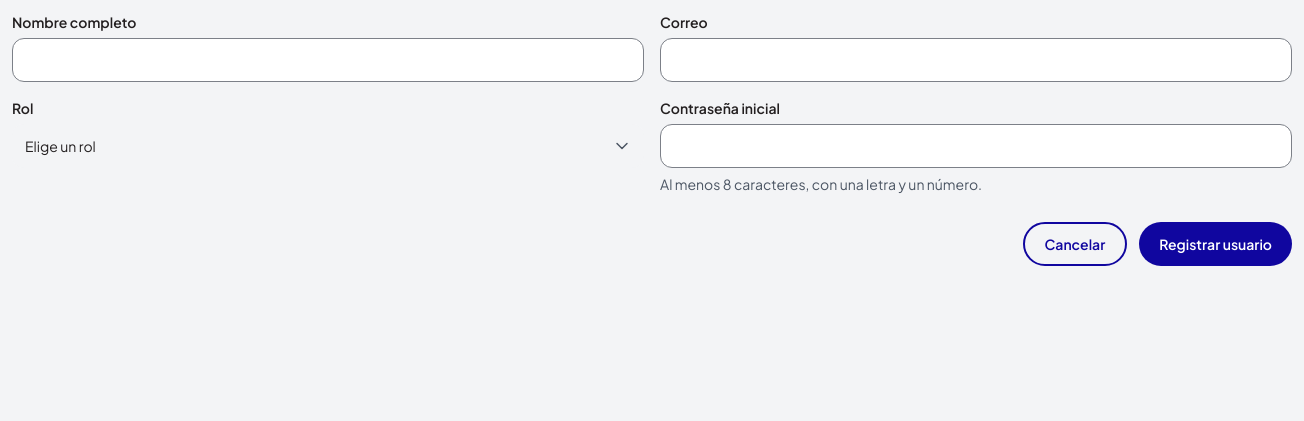
FormularioUsuario › un operador sin estación no se envía
In the field labelled "Nombre completo": (328, 60) [12,38,644,82], type "Luis Pérez"
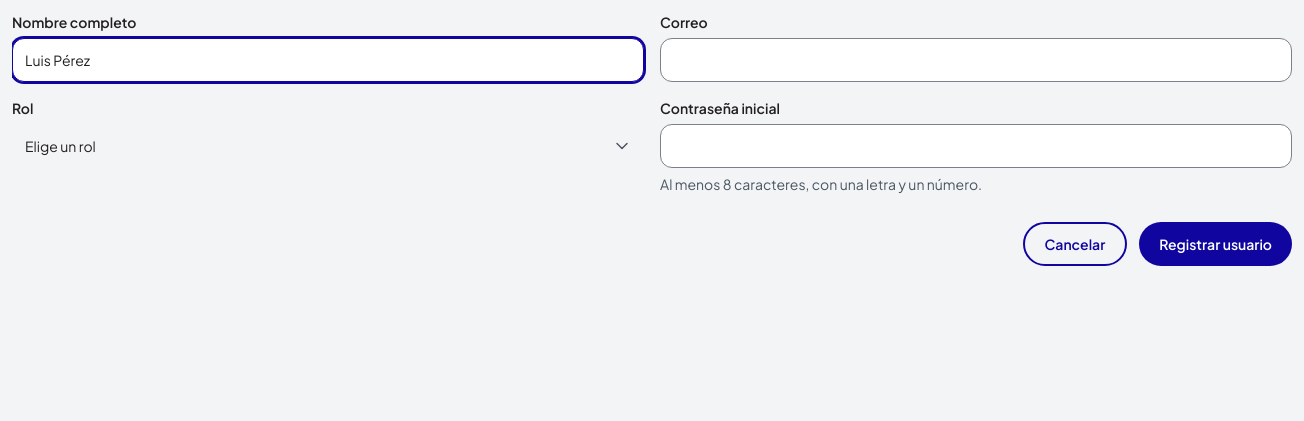
In the field labelled "Correo": (976, 60) [660,38,1292,82], type "luis@transmetro.test"
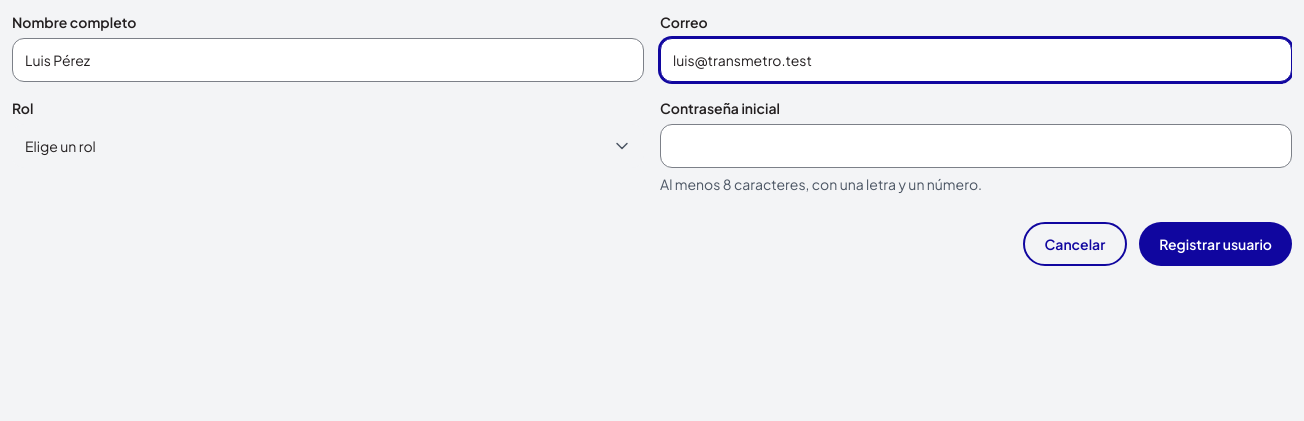
Select "Operador de estación" in the dropdown labelled "Rol": (328, 146) [12,124,644,168]
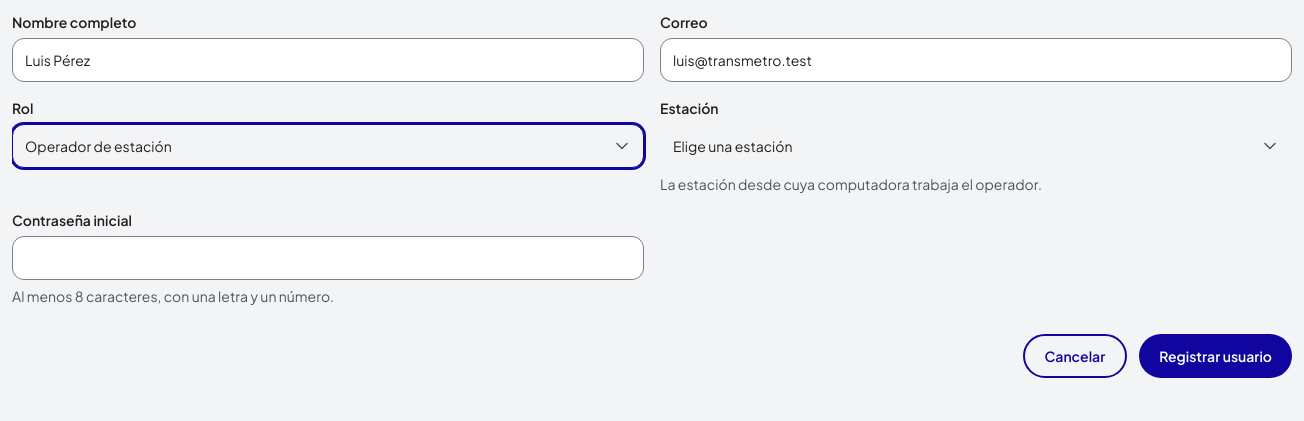
In the password field labelled "Contraseña inicial": (328, 258) [12,236,644,280], type "clave1234"
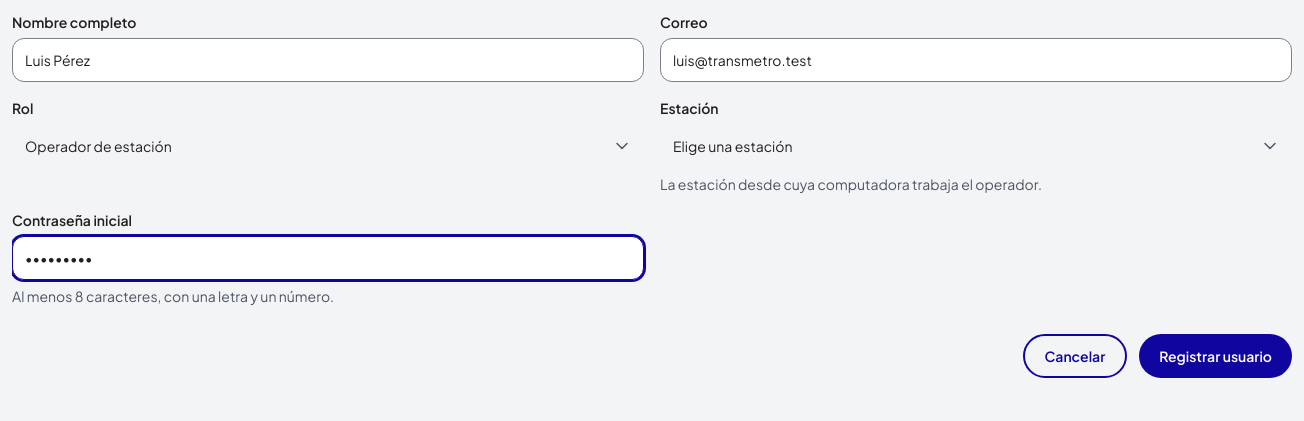
Click the button "Registrar usuario": (1216, 356) [1139,334,1292,378]
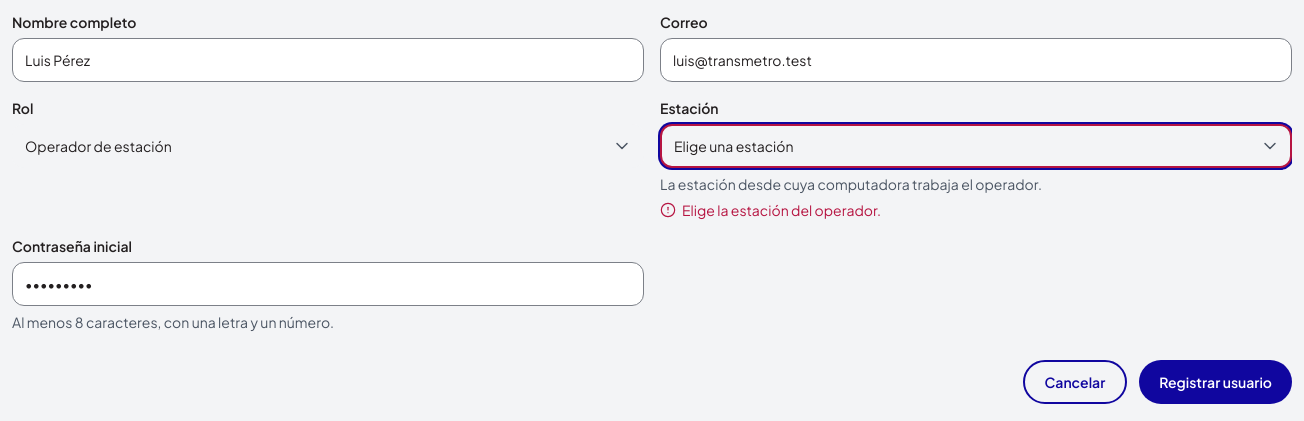
expect the text "Elige la estación del operador." is shown: met, box [660,201,881,219]
